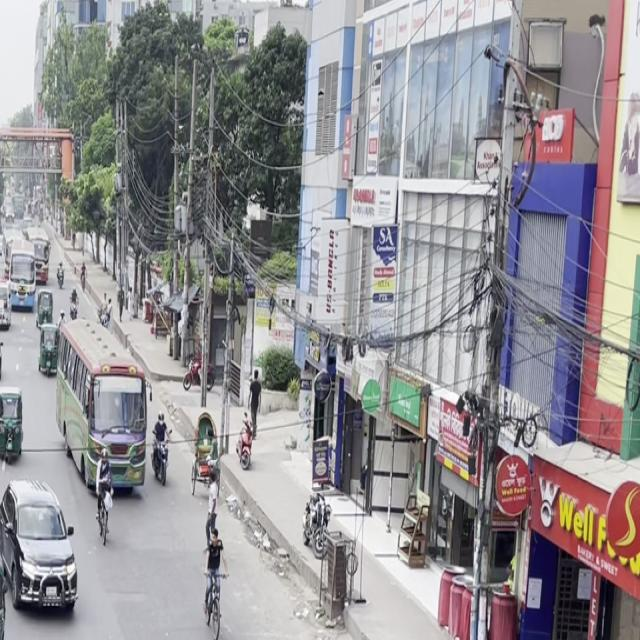bicycle: (195, 532, 231, 640), (94, 468, 115, 550)
bus: (49, 308, 152, 498)
car: (0, 475, 83, 624), (0, 289, 12, 333), (0, 328, 4, 387)
motorbike: (149, 408, 174, 491)
rickshaw: (0, 383, 28, 466), (0, 536, 11, 639)
